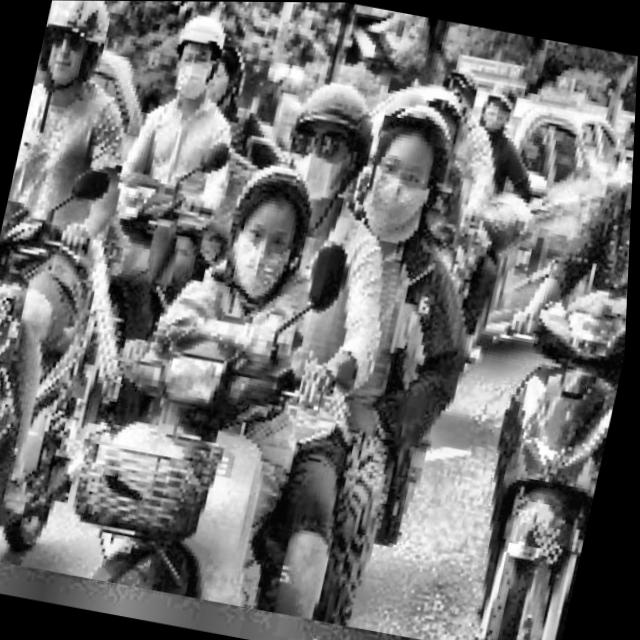motorcycle: (72, 218, 428, 625), (431, 267, 631, 640), (0, 156, 137, 571), (91, 127, 244, 320), (398, 180, 535, 363)
